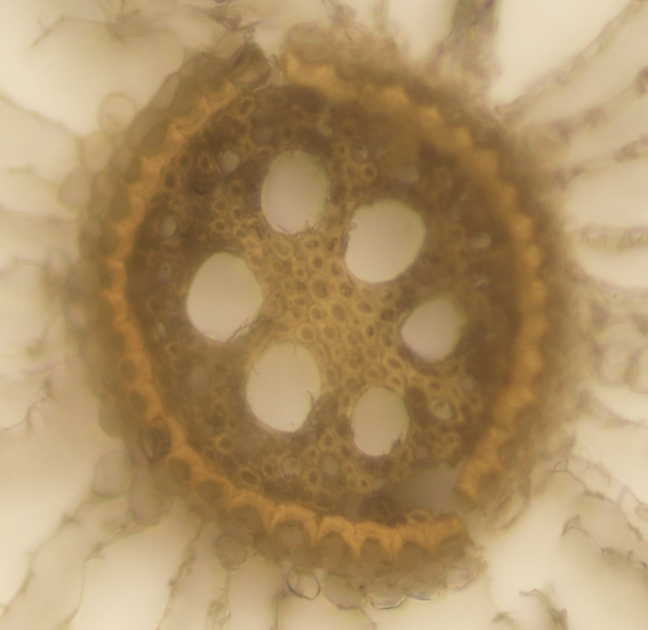lm: (185, 251, 263, 345), (245, 340, 321, 432), (343, 198, 425, 283), (260, 149, 330, 233), (400, 294, 464, 361), (349, 384, 409, 455)
